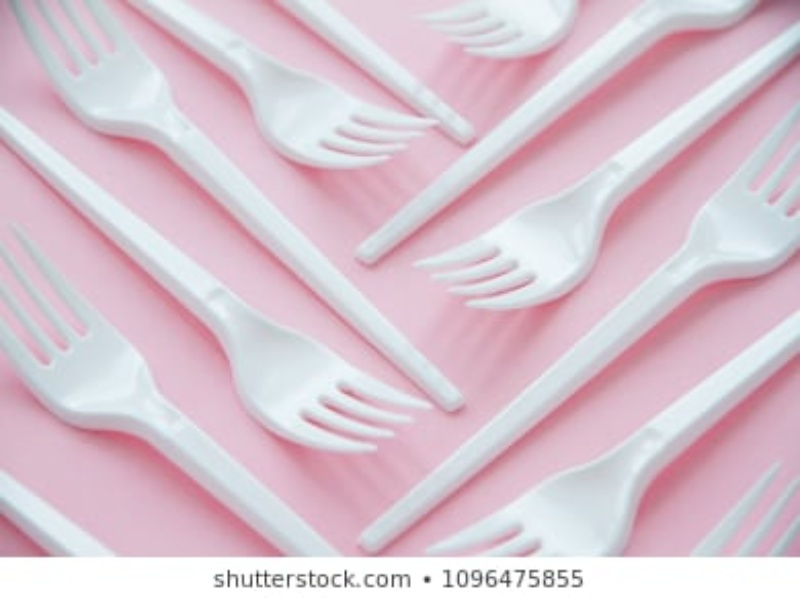plastic-silverware: (357, 102, 798, 553), (9, 1, 468, 405), (1, 101, 435, 459), (1, 218, 346, 556), (413, 24, 800, 316), (352, 1, 755, 269), (423, 321, 797, 552), (136, 1, 437, 173), (413, 1, 569, 63)
